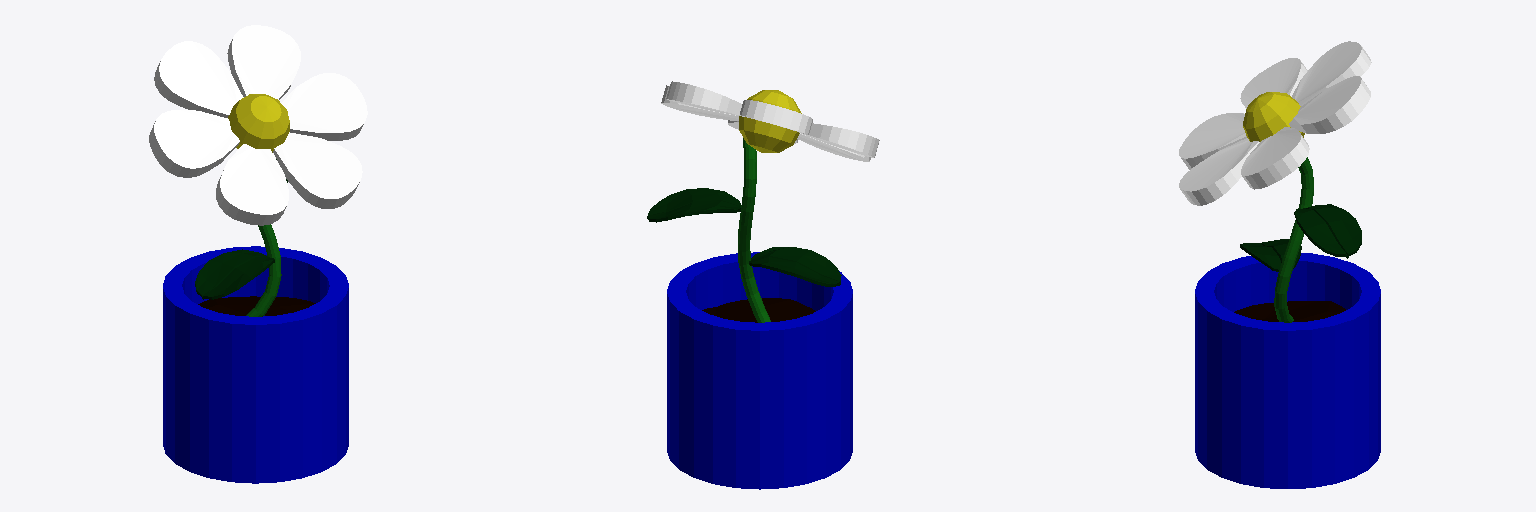
File: flower.obj
3 renders of one model, left to right at view 1: azimuth 30°, elevation 25°; view 2: azimuth 150°, elevation 25°; view 3: azimuth 270°, elevation 25°, orthographic.
Visible parts, largest first — view 1: pot_Cylinder, petal_Cube.005, core_Sphere.002, leaf2_Circle.002, mud_Circle.003, stem_BezierCurve; view 2: pot_Cylinder, petal_Cube.005, stem_BezierCurve, leaf2_Circle.002, leaf1_Circle.001, core_Sphere.002, mud_Circle.003; view 3: pot_Cylinder, petal_Cube.005, leaf1_Circle.001, core_Sphere.002, stem_BezierCurve, mud_Circle.003, leaf2_Circle.002.
Part boxes in pixels (left/top/right/bottom): pot_Cylinder: left=163, top=246, right=348, bottom=483; petal_Cube.005: left=149, top=25, right=367, bottom=225; core_Sphere.002: left=228, top=94, right=289, bottom=152; leaf2_Circle.002: left=195, top=249, right=274, bottom=299; mud_Circle.003: left=198, top=296, right=315, bottom=315; stem_BezierCurve: left=246, top=224, right=281, bottom=316; pot_Cylinder: left=667, top=252, right=852, bottom=489; petal_Cube.005: left=661, top=81, right=879, bottom=161; stem_BezierCurve: left=738, top=138, right=770, bottom=322; leaf2_Circle.002: left=749, top=247, right=841, bottom=286; leaf1_Circle.001: left=647, top=188, right=740, bottom=222; core_Sphere.002: left=739, top=90, right=801, bottom=152; mud_Circle.003: left=702, top=298, right=815, bottom=322; pot_Cylinder: left=1195, top=253, right=1380, bottom=488; petal_Cube.005: left=1179, top=41, right=1371, bottom=205; leaf1_Circle.001: left=1294, top=204, right=1361, bottom=258; core_Sphere.002: left=1243, top=92, right=1304, bottom=141; stem_BezierCurve: left=1274, top=157, right=1313, bottom=322; mud_Circle.003: left=1234, top=301, right=1345, bottom=321; leaf2_Circle.002: left=1240, top=239, right=1301, bottom=271.
Size of the model in its own units: 0.7205 by 1.3 by 0.6221.